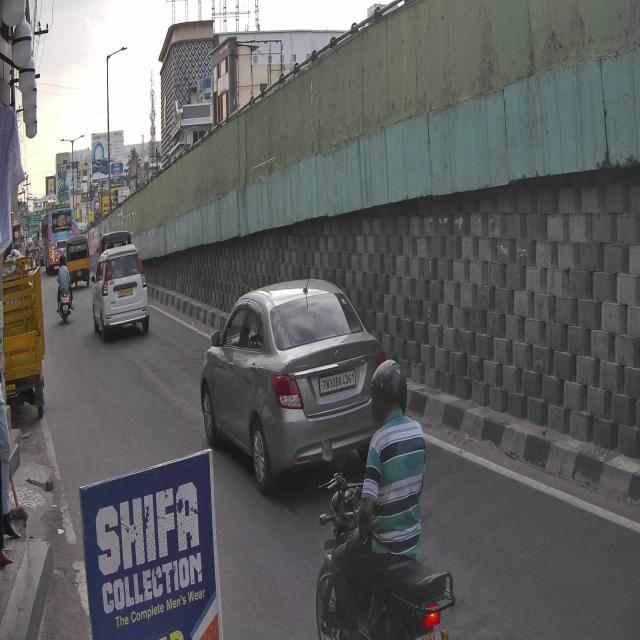single_rider: (314, 356, 458, 640)
